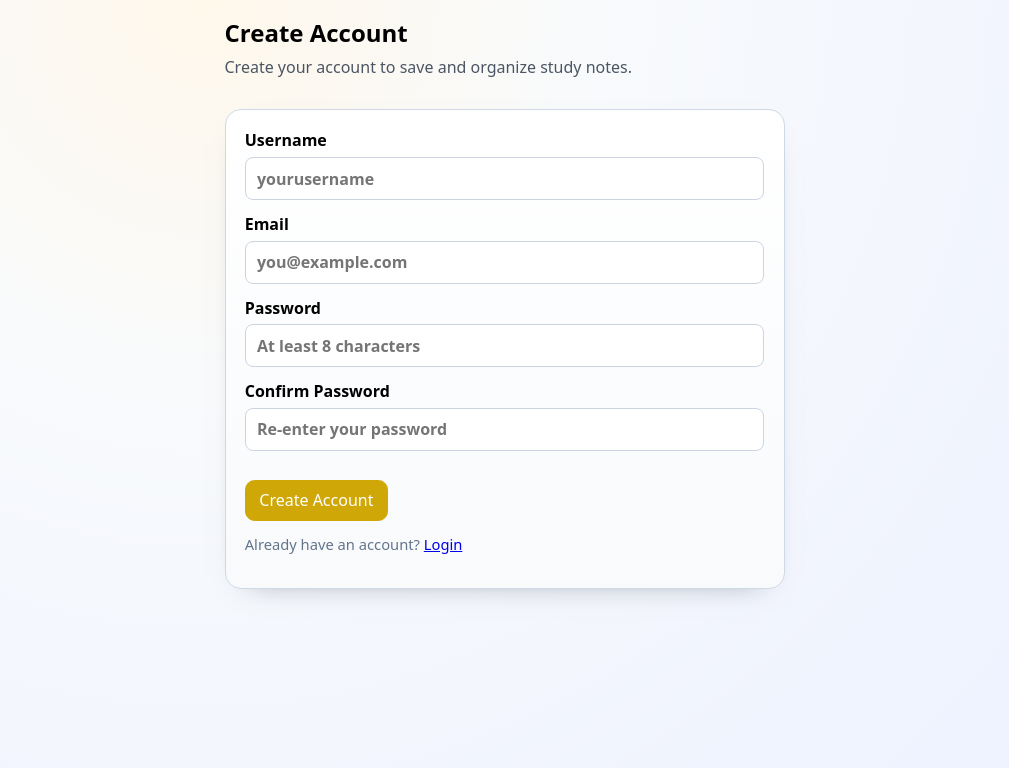
Test case: SignupPage › validates password length
Type "testuser" into the field labelled "Username" at (504, 179), box [245, 157, 764, 200]
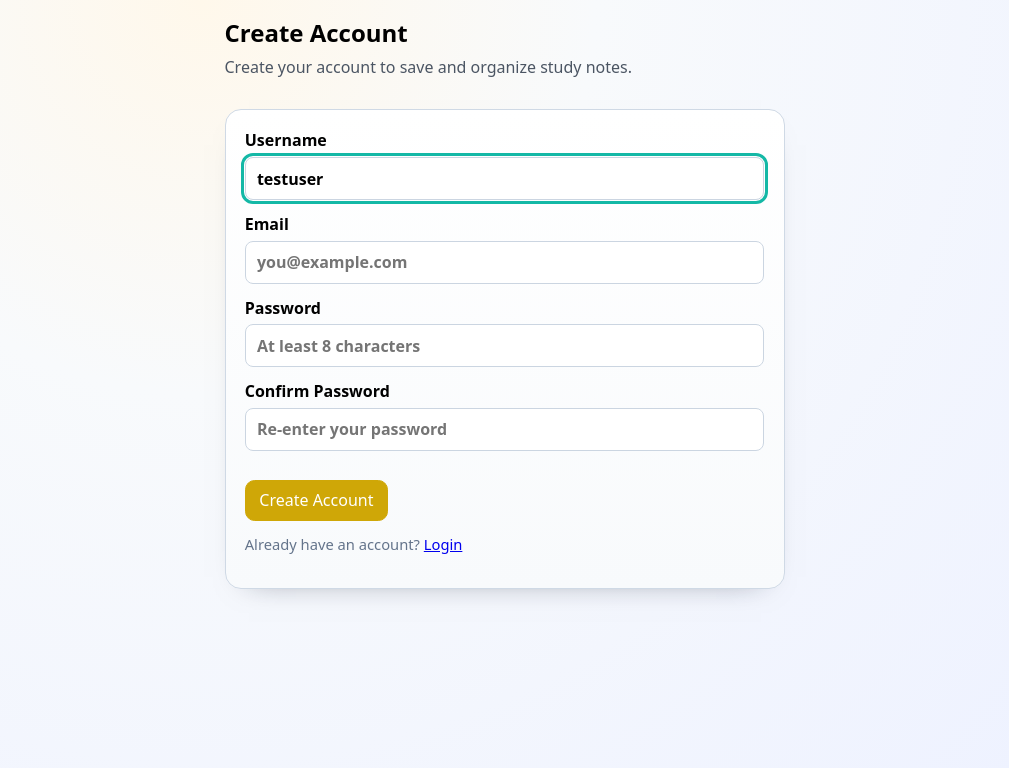
Type "test@example.com" into the field labelled "Email" at (504, 262), box [245, 240, 764, 284]
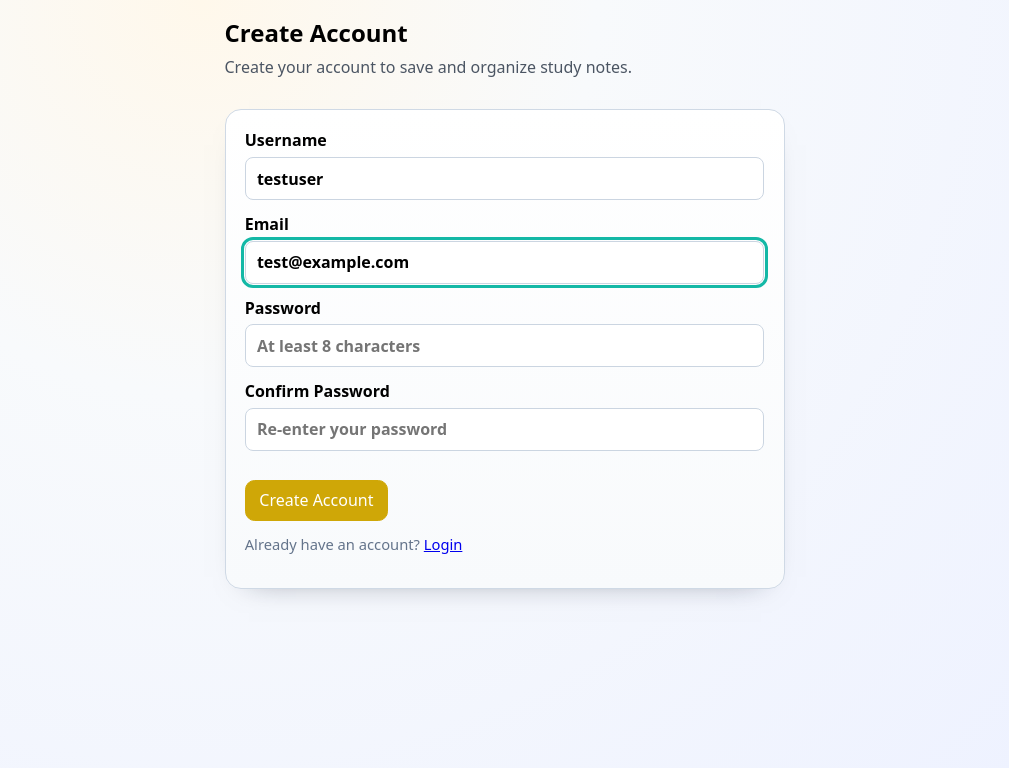
Type "short" into the password field labelled "Password" at (504, 346), box [245, 324, 764, 367]
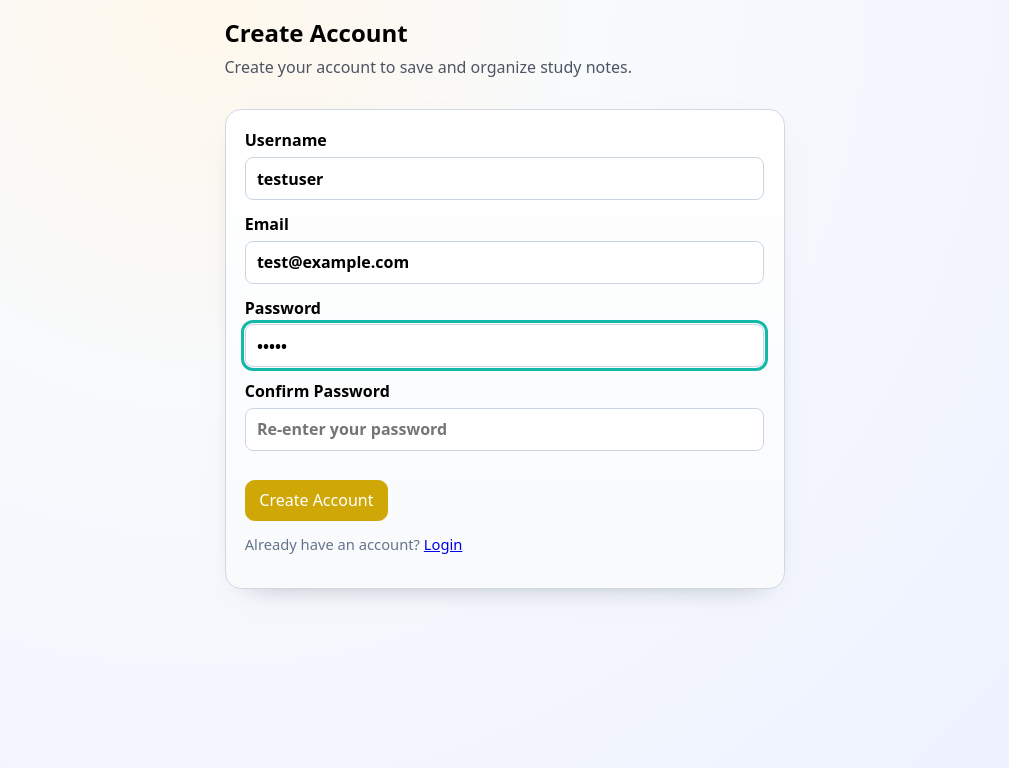
Click the button "Create Account" at (316, 500), box [245, 480, 388, 521]
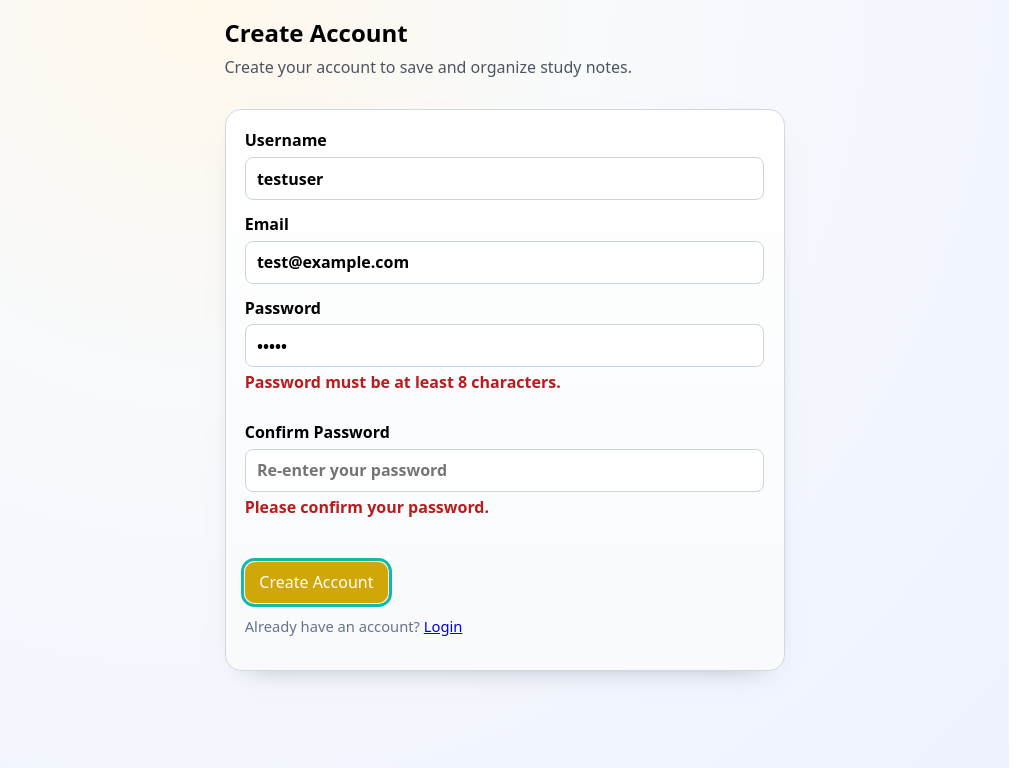
Check: the text "Password must be at least 8 characters." is shown, box [245, 371, 561, 393]
